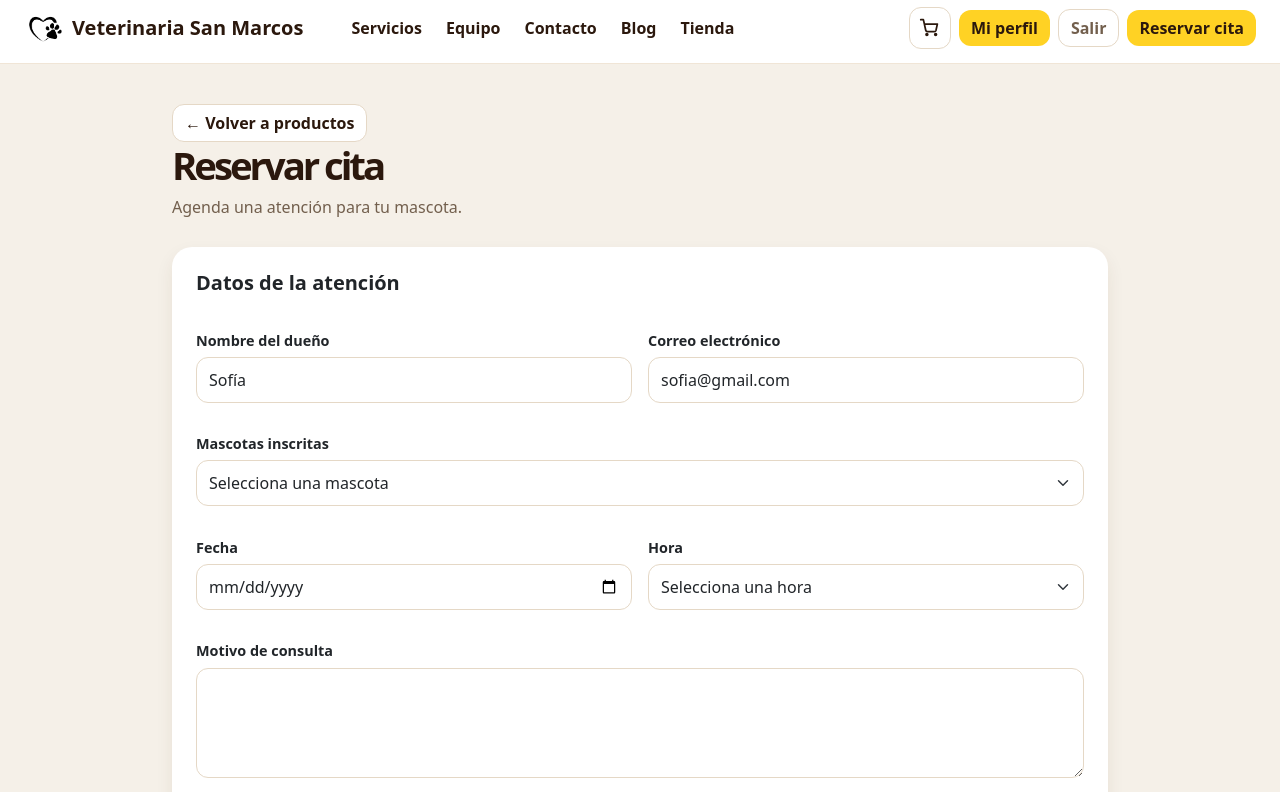
Test case: la cuenta cliente puede reservar para una de sus mascotas inscritas
The width and height of the screenshot is (1280, 792).
Select "Luna" in the dropdown labelled "Mascotas inscritas" at (640, 484), box x1=196 y1=460 x2=1084 y2=506
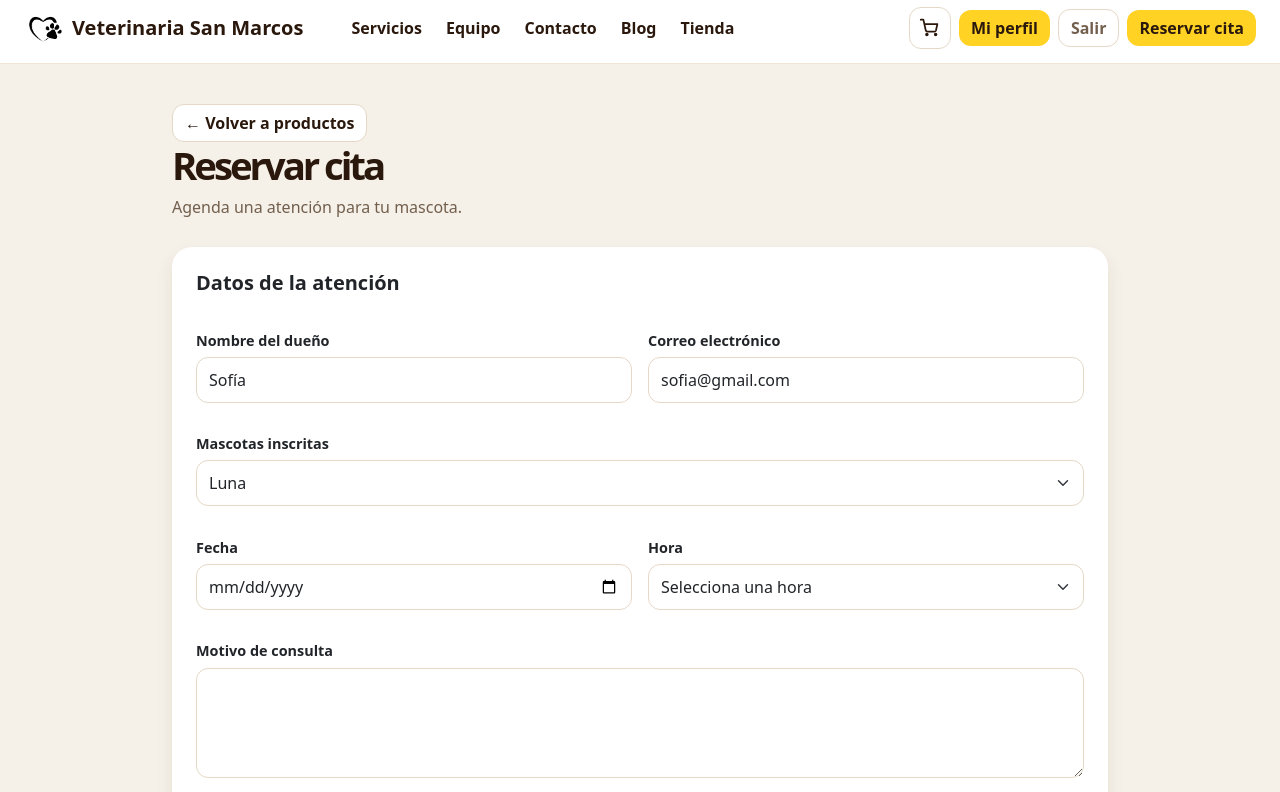
Type "2030-01-15" into the date field labelled "Fecha" at (414, 587), box x1=196 y1=564 x2=632 y2=610
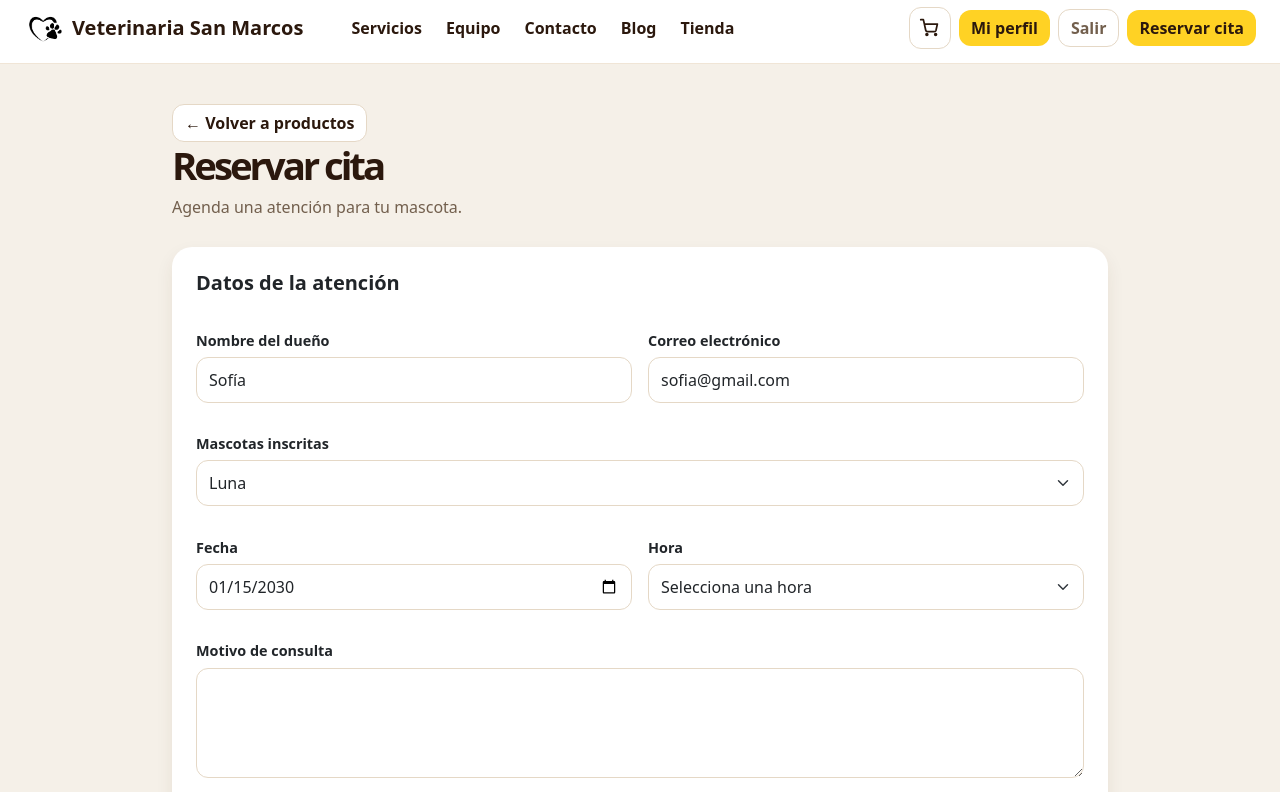
Select "10:00 · Fabián Gómez" in the dropdown labelled "Hora" at (866, 587), box x1=648 y1=564 x2=1084 y2=610
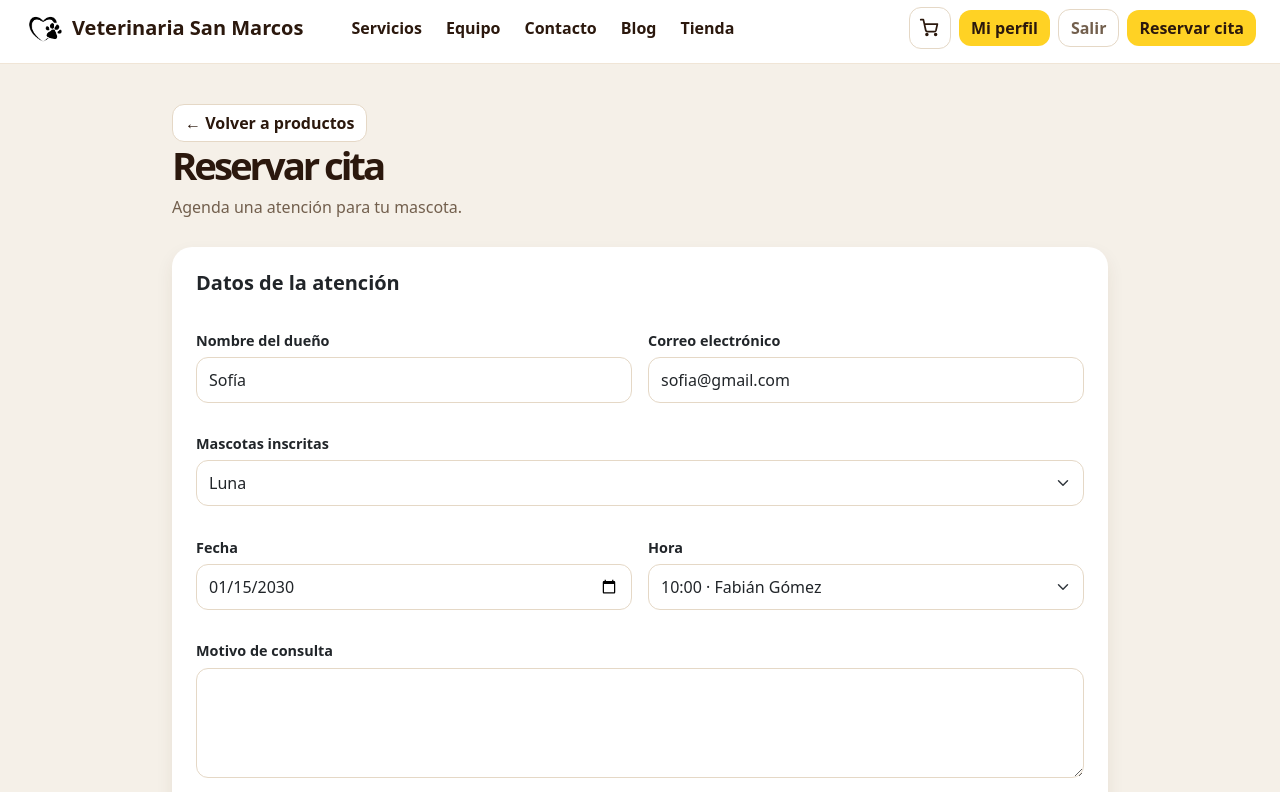
Type "Control" into the text box labelled "Motivo de consulta" at (640, 723), box x1=196 y1=668 x2=1084 y2=778
(page scrolled)
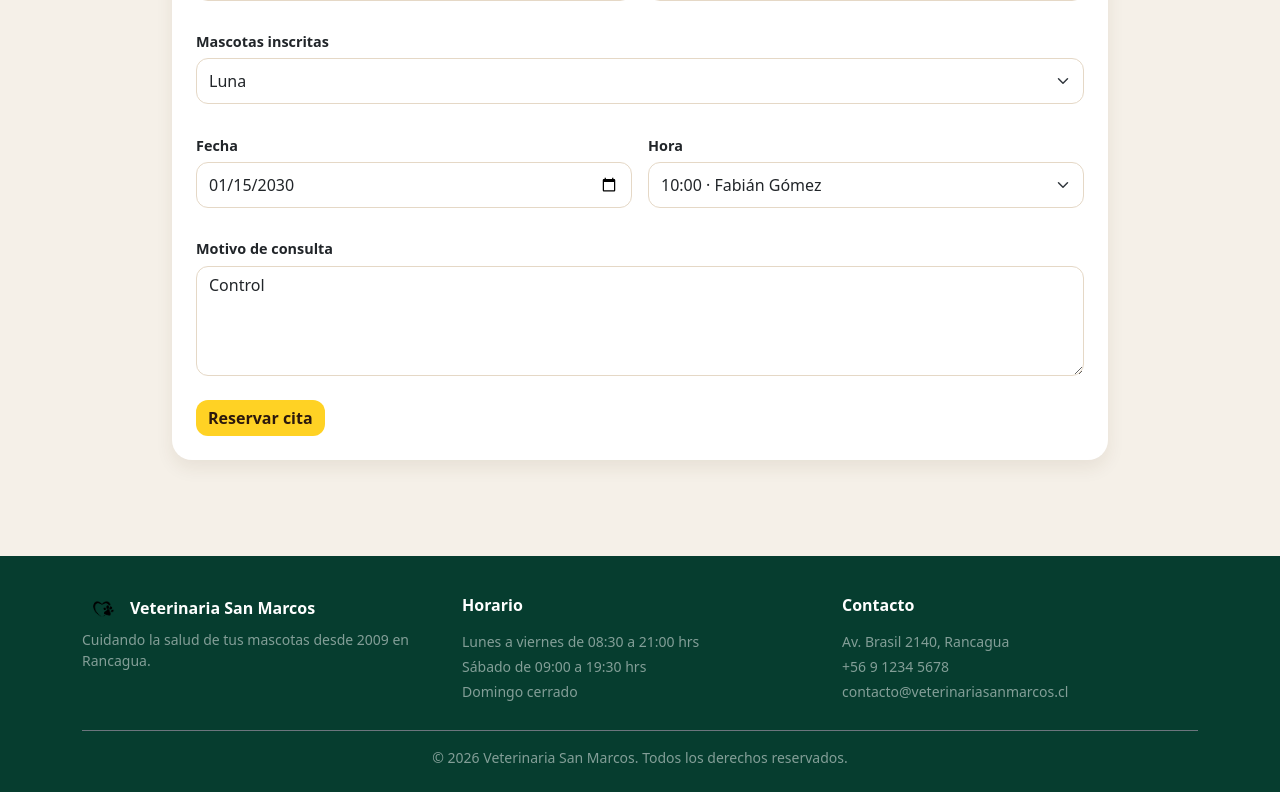
Click the button "Reservar cita" at (260, 418), box x1=196 y1=400 x2=325 y2=436
(page scrolled)
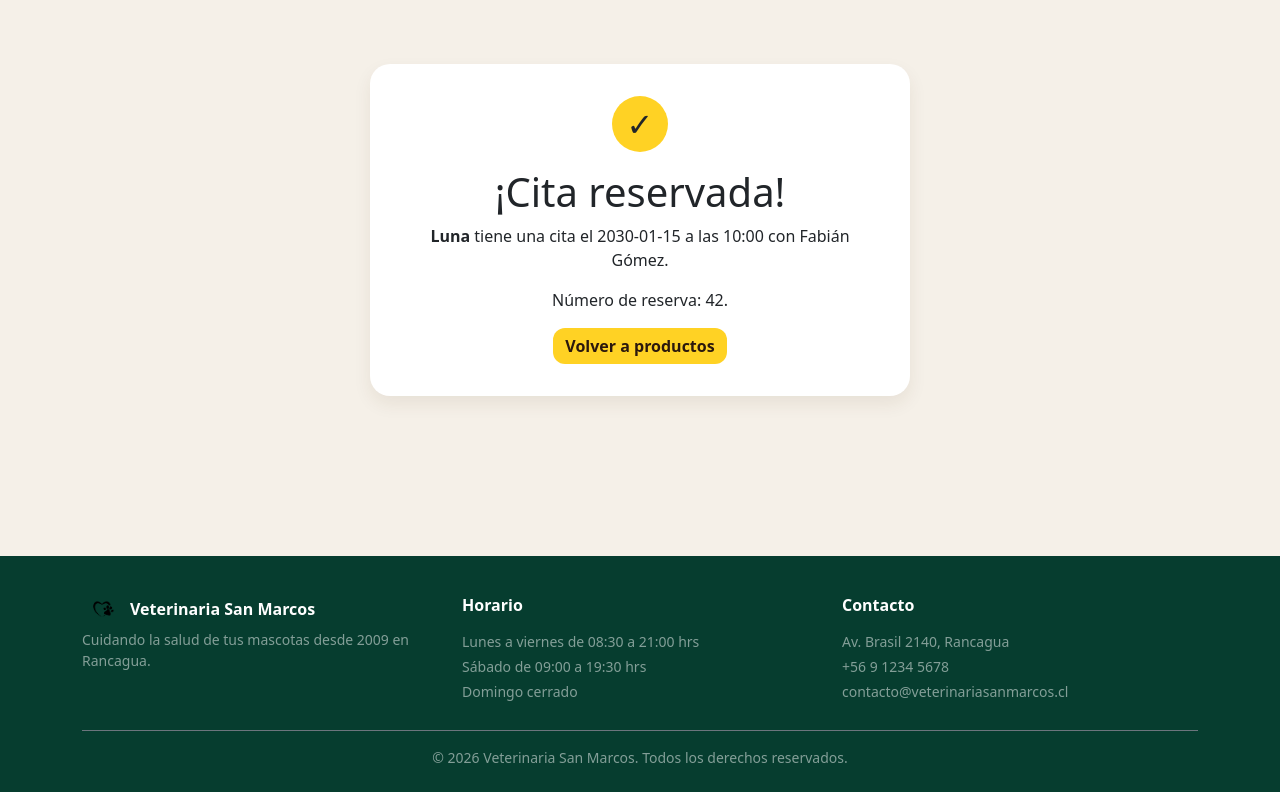
Check: the heading "¡Cita reservada!" is shown, box x1=495 y1=164 x2=785 y2=219
